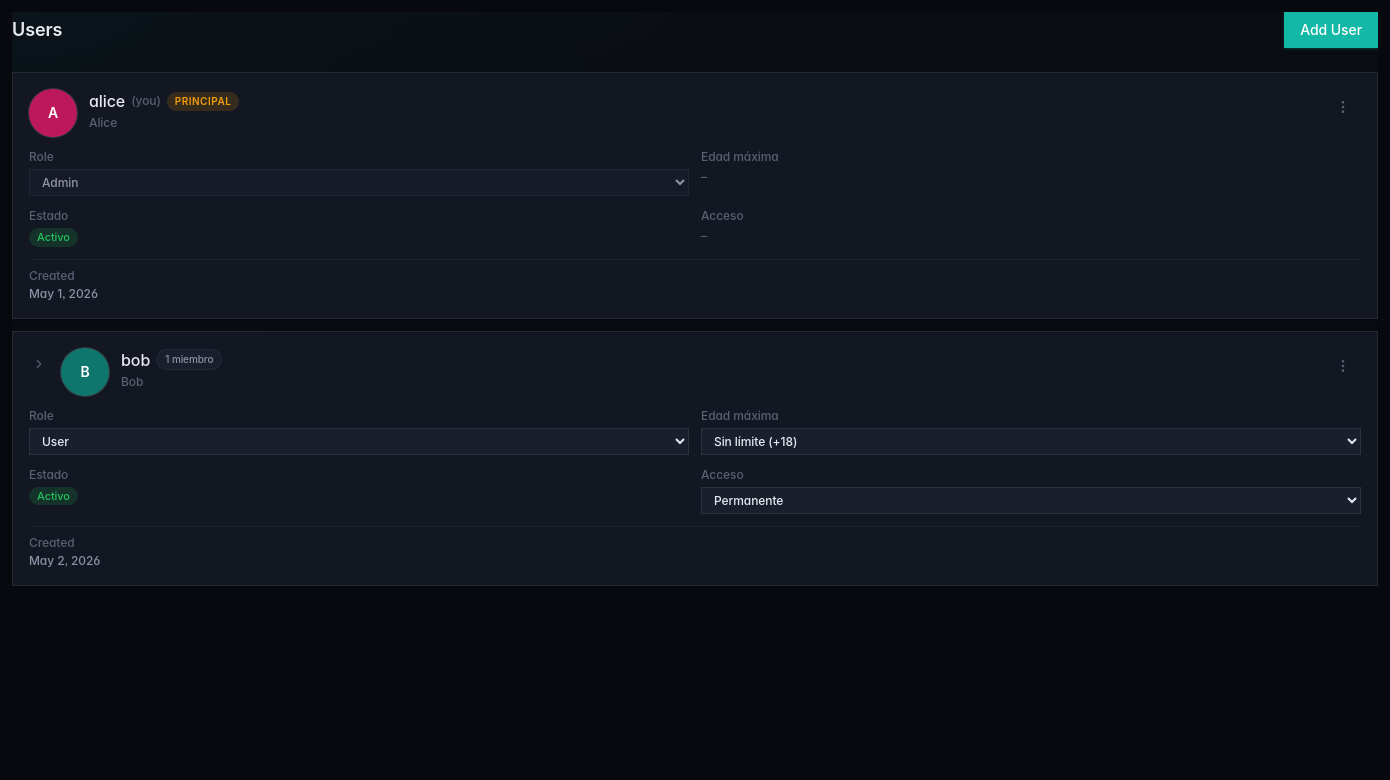
Scenario: UsersAdmin (mobile) › renders the kebab and opens an actions menu
Expected: the text "bob" is shown, x1=121 y1=348 x2=150 y2=372
Expected: the list item "bob" is shown, x1=121 y1=350 x2=150 y2=370
Click the button named "Actions" in the row of "1 miembro". click: (1343,366)
box: x1=1325 y1=348 x2=1361 y2=384
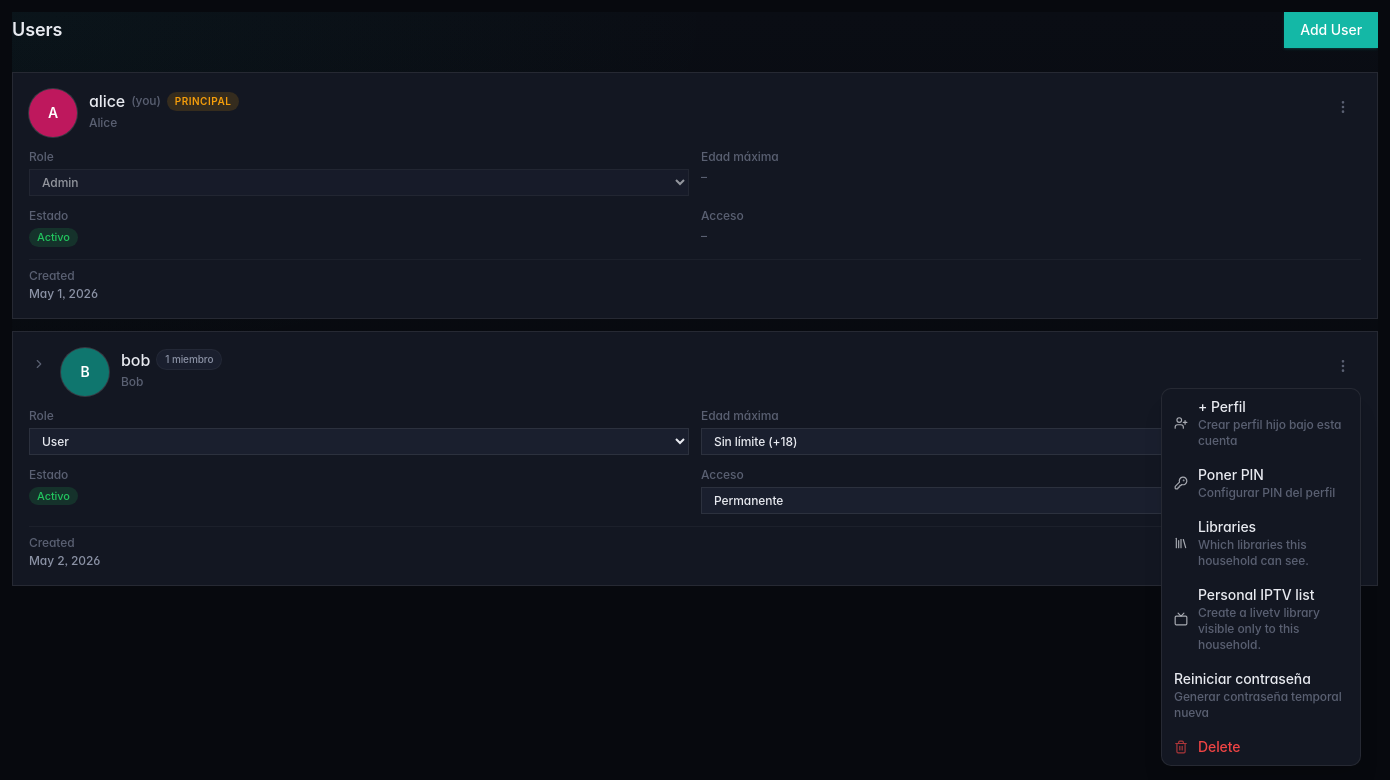
Expected: the menu is shown, x1=1161 y1=388 x2=1361 y2=766
Expected: the menu item "+ Perfil Crear perfil hijo bajo esta cuenta" is shown, x1=1162 y1=389 x2=1360 y2=457
Expected: the menu item "Poner PIN Configurar PIN del perfil" is shown, x1=1162 y1=457 x2=1360 y2=509
